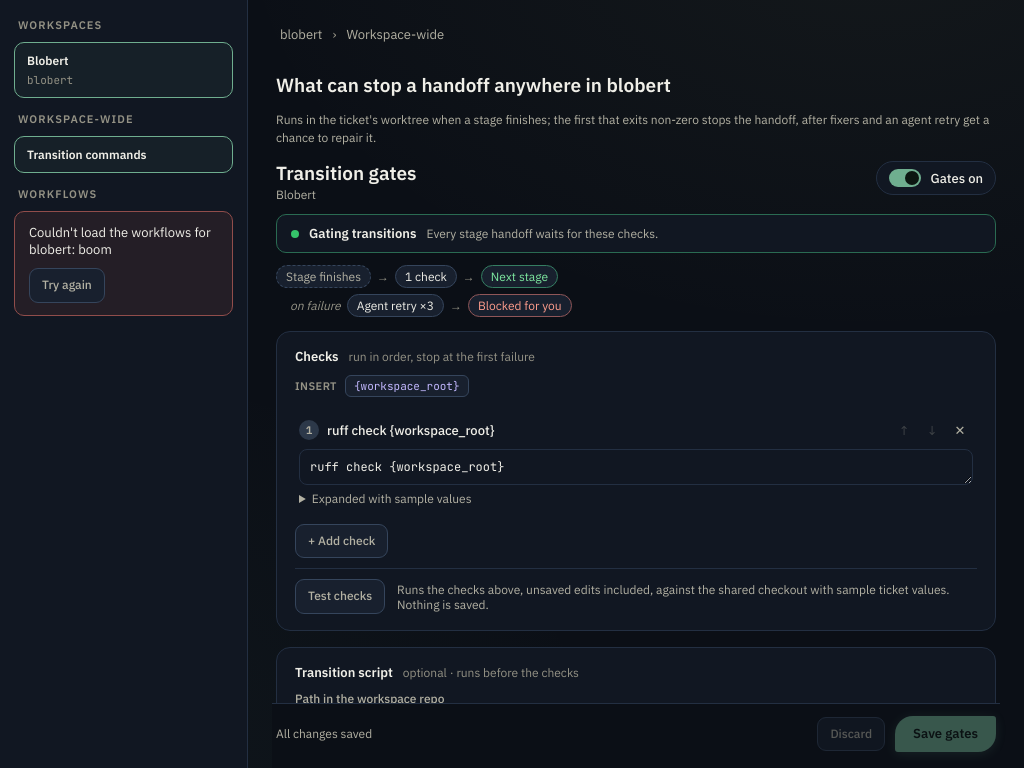
Test: GateStudioPanel › says what failed when the workflows cannot load, and retries
The width and height of the screenshot is (1024, 768).
Expected: the text "Couldn't load the workflows for blobert: boom" is shown, [29,224,218,258]
Click the button "Try again" at point(67, 285), box [29,268,105,303]
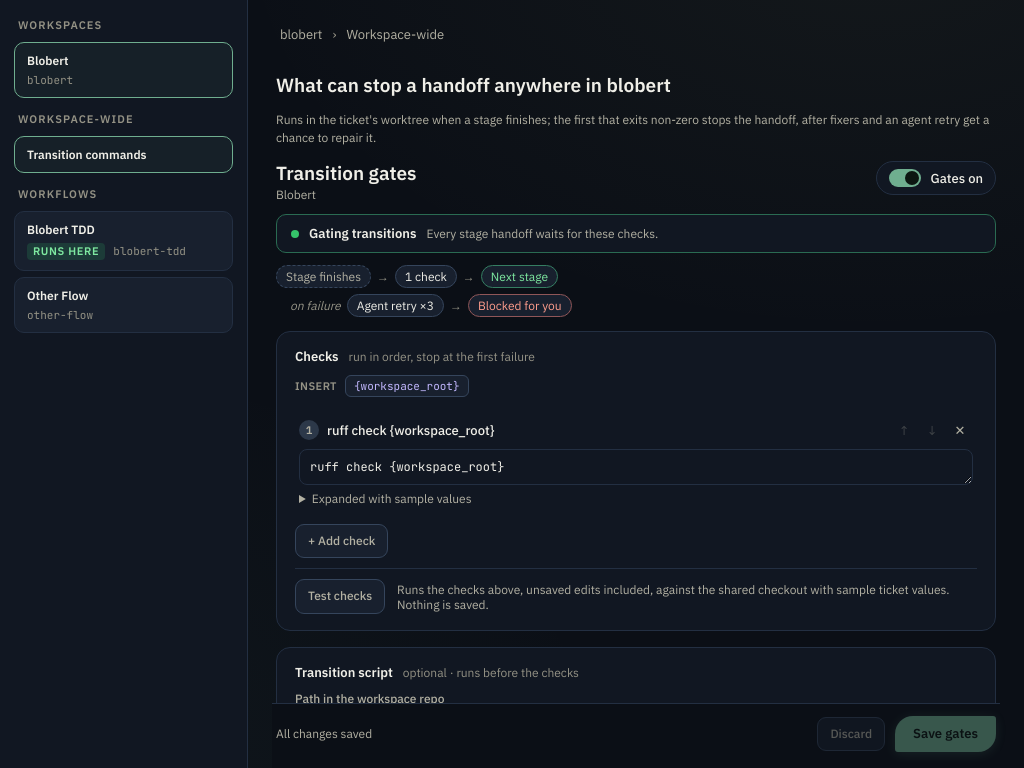
Now the navigation bar named "Workflows for blobert" is shown, box [14,211,233,333]
